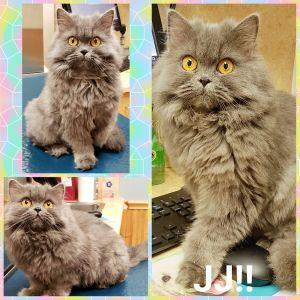persian: (151, 11, 269, 126)
